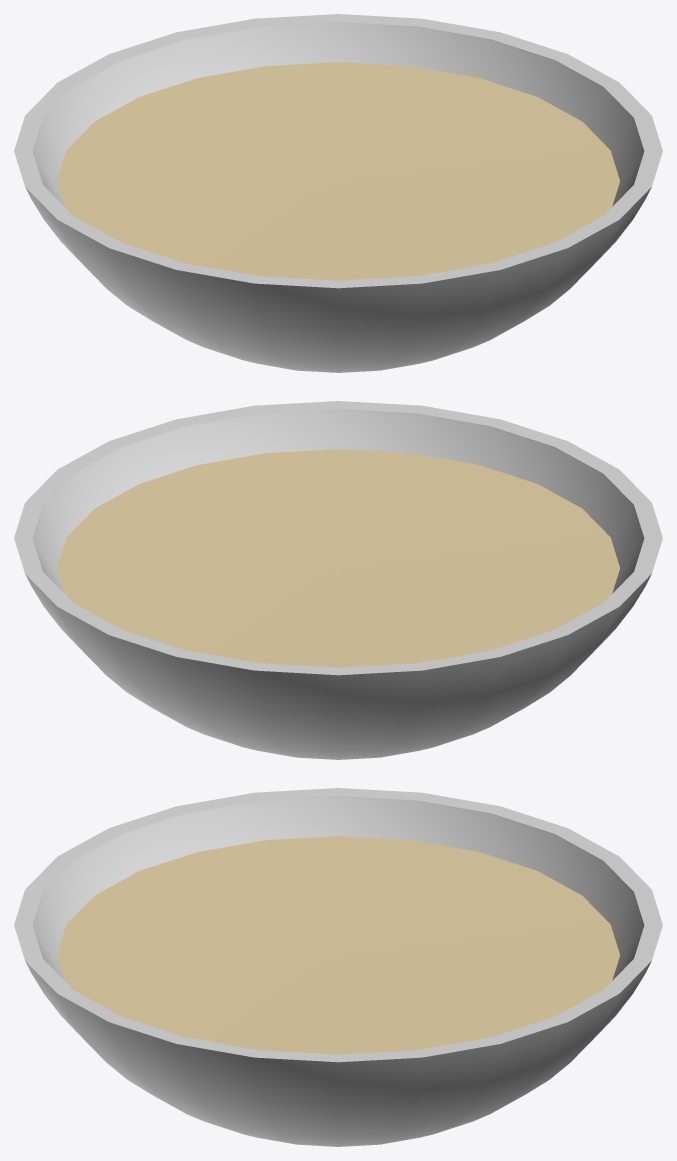
Rendered from Soup.fbx.
3 renders of one model, top to bottom at view 1: azimuth 30°, elevation 25°; view 2: azimuth 150°, elevation 25°; view 3: azimuth 270°, elevation 25°, orthographic.
Visible parts, largest first — view 1: Soup; view 2: Soup; view 3: Soup.
Part boxes in pixels (box(x1,y1,x2,y2)): Soup: box(14, 14, 662, 372); Soup: box(14, 401, 662, 759); Soup: box(14, 788, 662, 1146).
Bounding box in the file's own units: 160 × 50.71 × 160.
